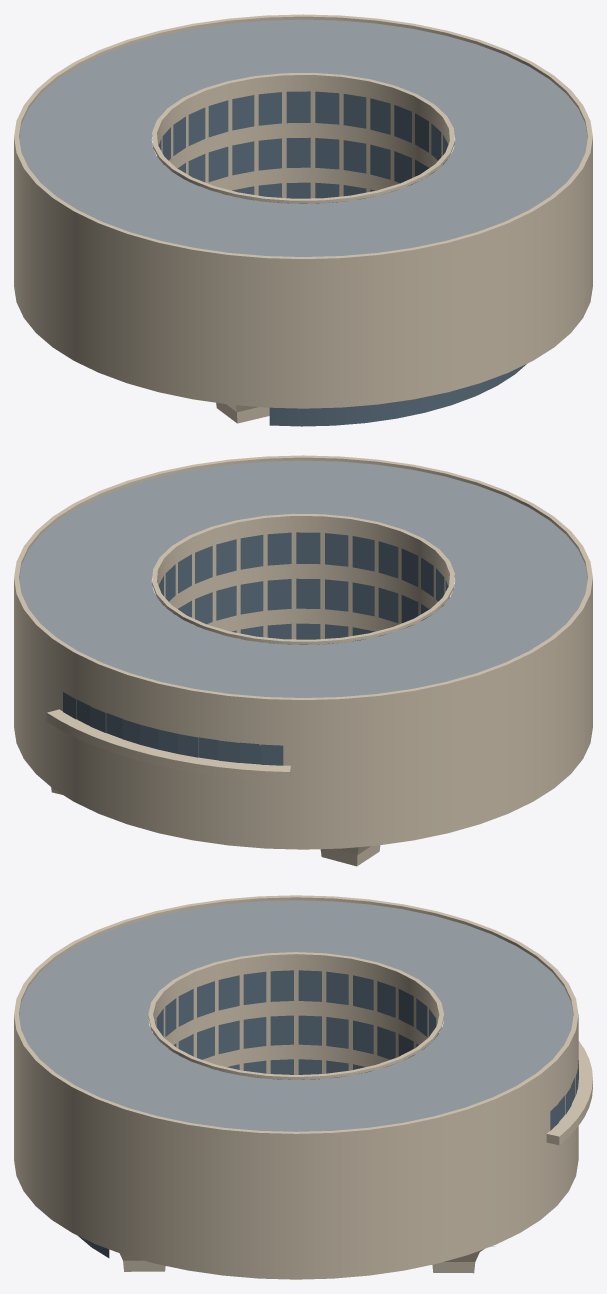
The picture shows the model from 3 angles, top to bottom: view 1: azimuth 30°, elevation 25°; view 2: azimuth 150°, elevation 25°; view 3: azimuth 270°, elevation 25°; orthographic projection. The views are drawn at different scales.
Visible parts, largest first — view 1: hirshhorn-museum; view 2: hirshhorn-museum; view 3: hirshhorn-museum.
Part boxes in pixels (<box>): hirshhorn-museum: <box>14,14,592,426</box>; hirshhorn-museum: <box>14,455,592,866</box>; hirshhorn-museum: <box>14,895,592,1279</box>.
Bounding box in the file's own units: 70.2 × 25 × 72.
